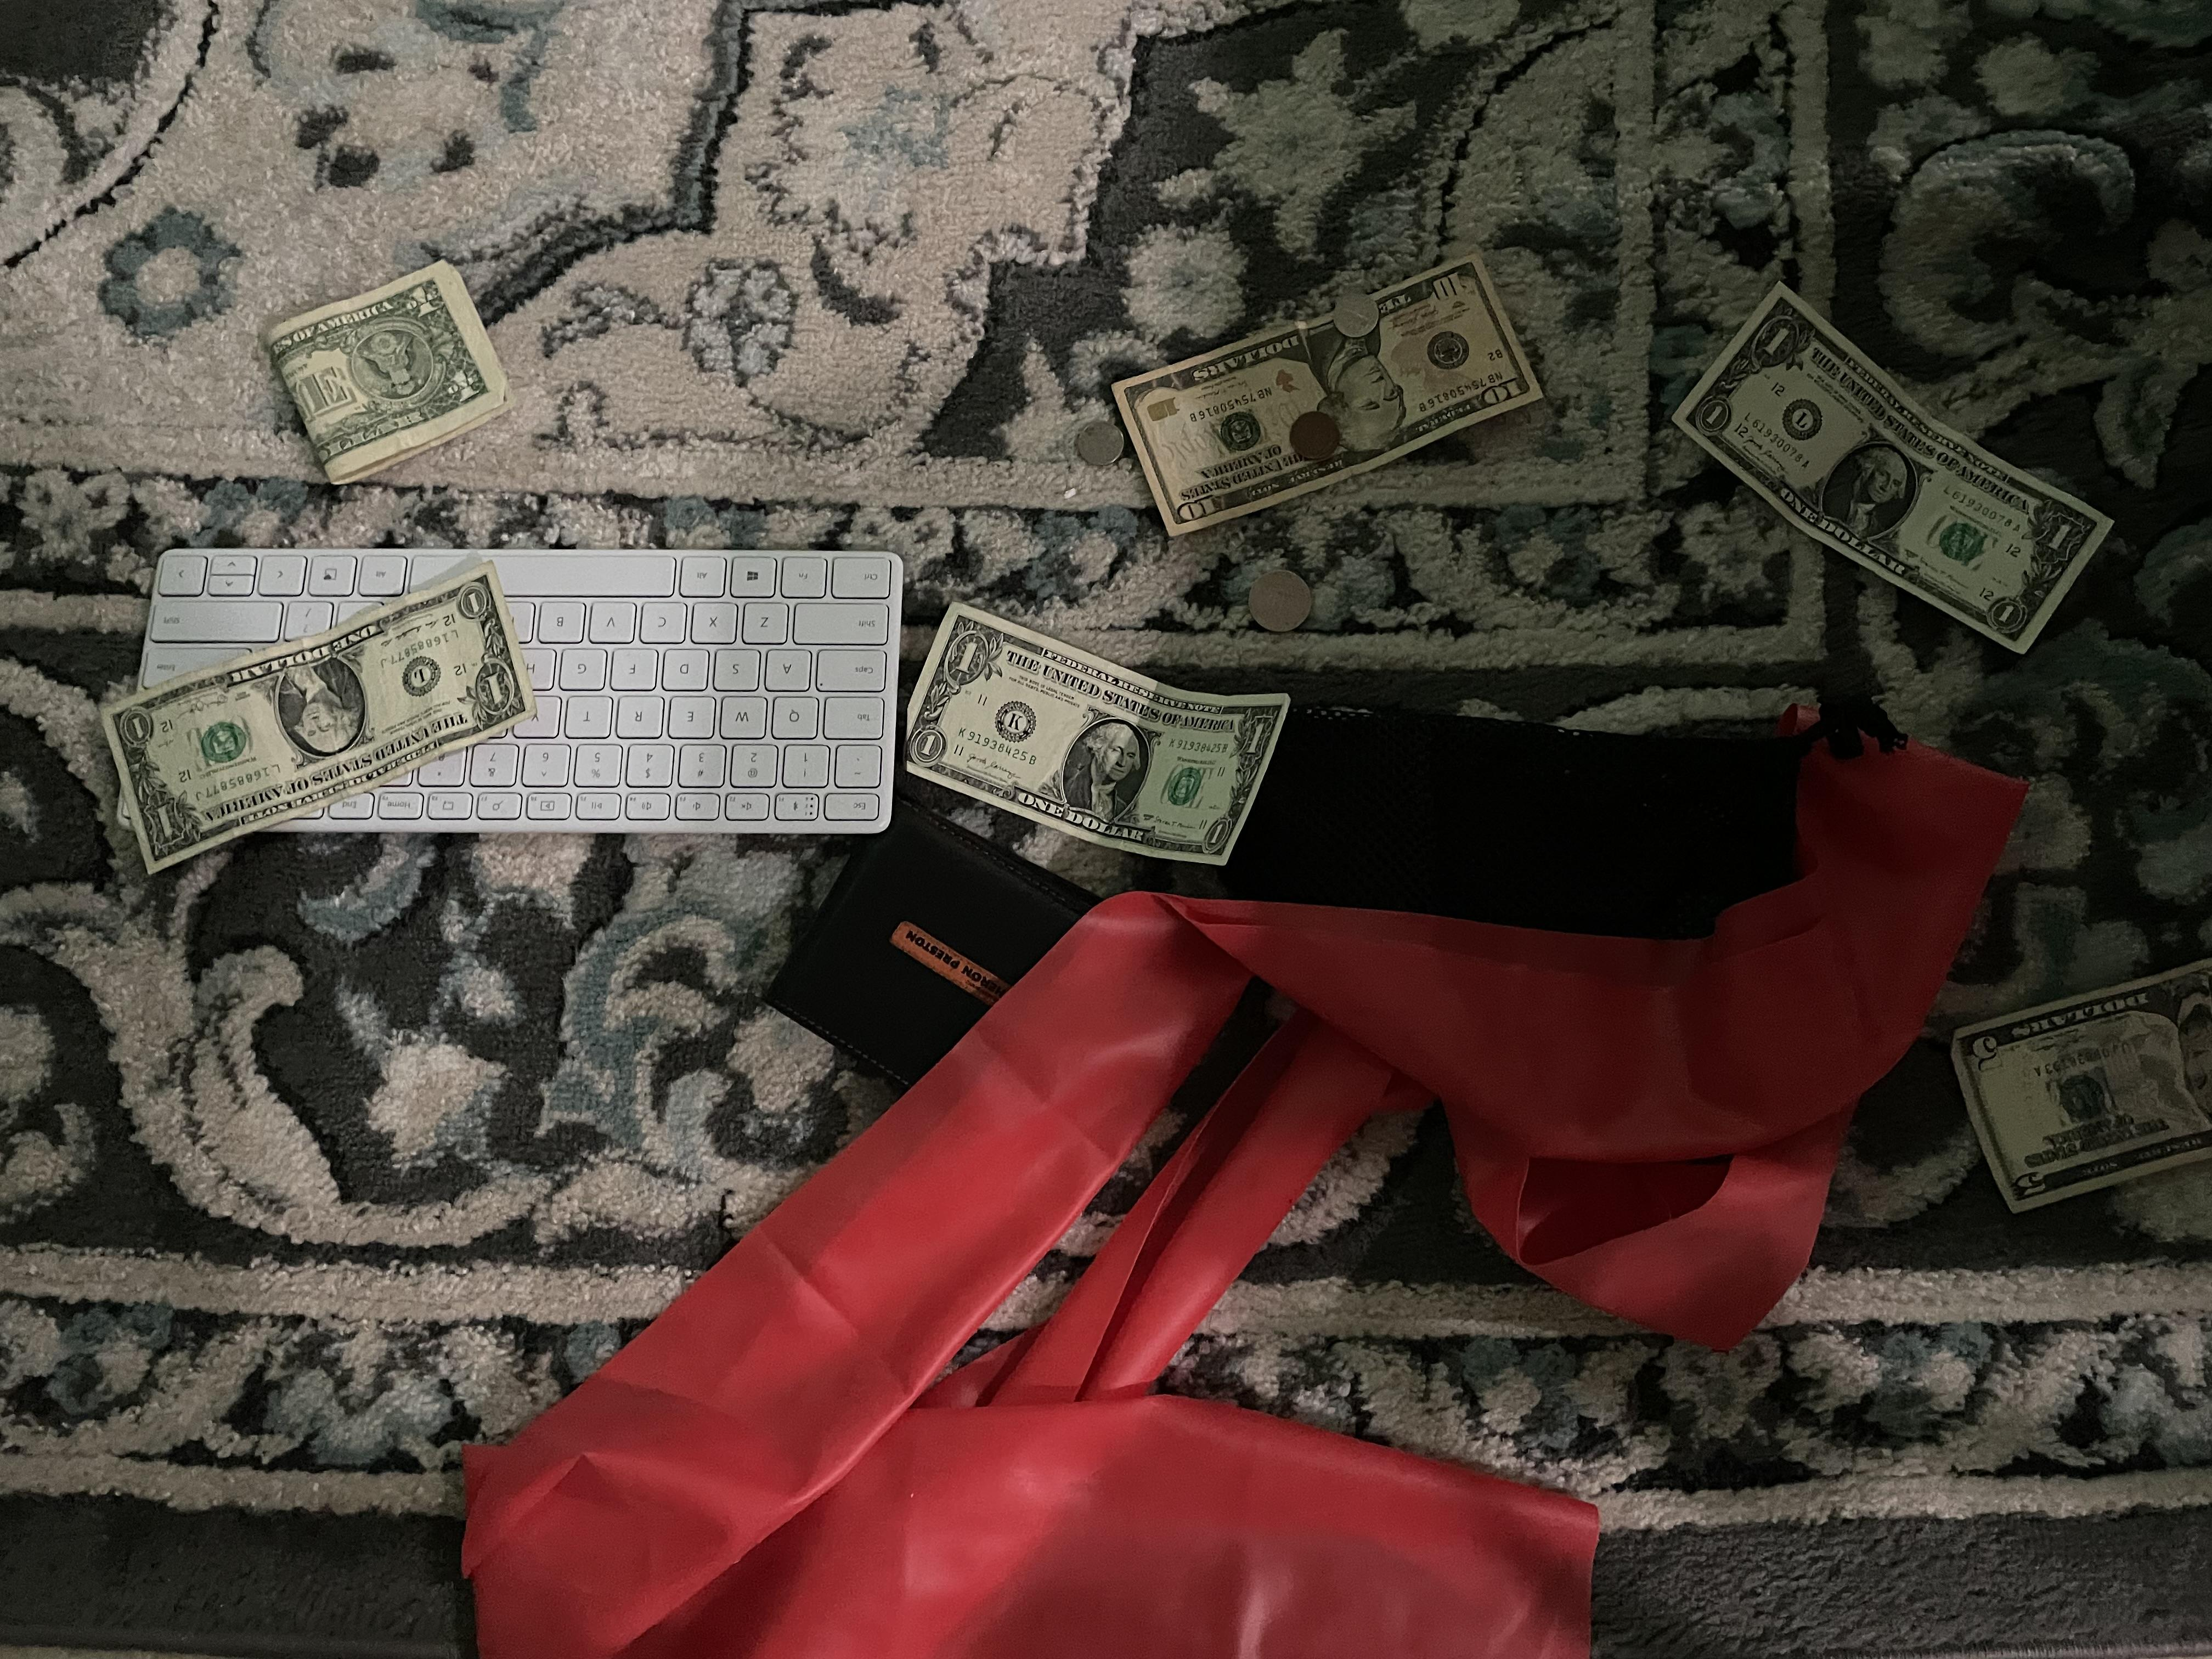Dime: (1324, 286, 1393, 354), (1068, 411, 1137, 471)
OneBill: (1670, 277, 2120, 659), (108, 558, 538, 868), (1118, 247, 1561, 547), (900, 584, 1280, 873), (1954, 946, 2209, 1220), (246, 253, 521, 486)
Penny: (1284, 404, 1348, 469)
Quarter: (1240, 561, 1338, 631)
